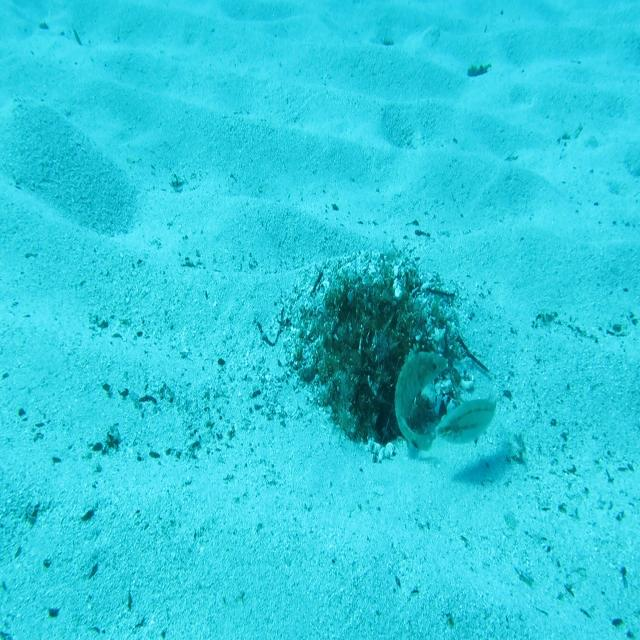DAN_CIRC: (392, 342, 449, 456)
core_nest: (348, 296, 392, 347)
female: (434, 394, 498, 449)
nest: (274, 236, 480, 475)
vegetation: (468, 59, 494, 83)
